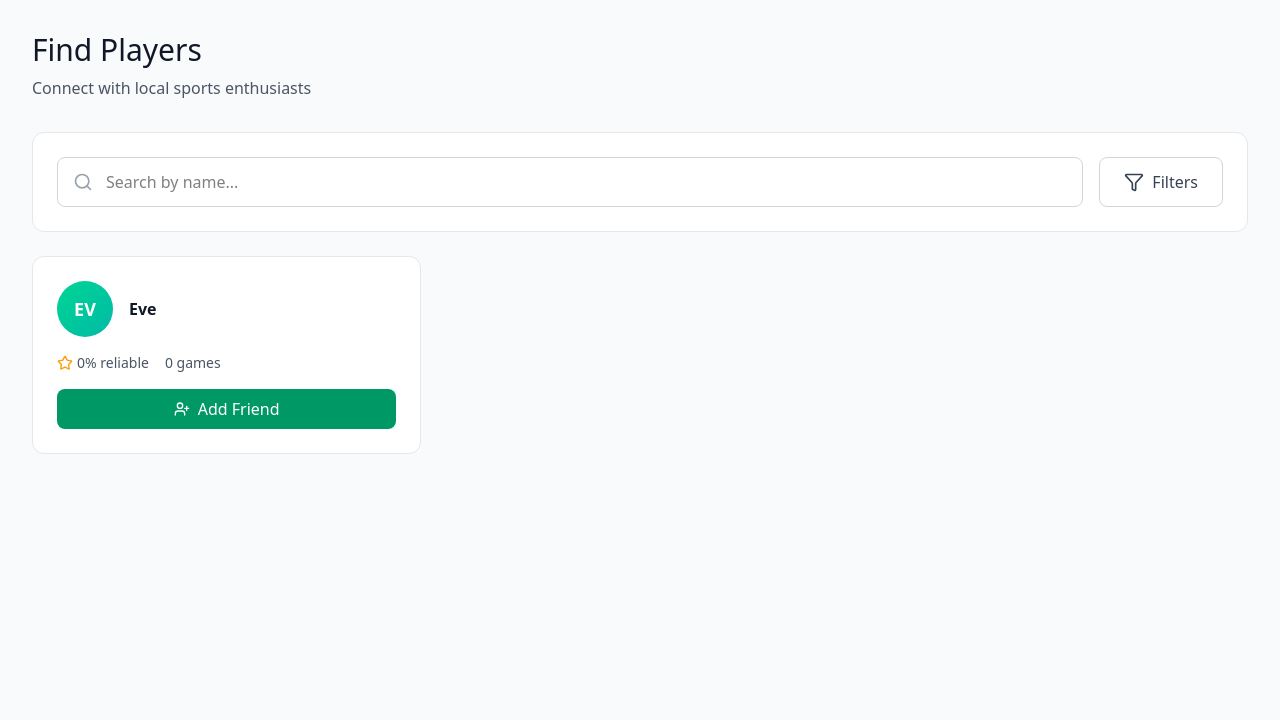
Test: PlayerSearch › duplicate request error: shows 'already exists' message and refreshes friends list
Expected: the heading "Eve" is shown, x1=129 y1=297 x2=156 y2=321
Click the button "Add Friend" at (227, 409), box x1=57 y1=389 x2=396 y2=429
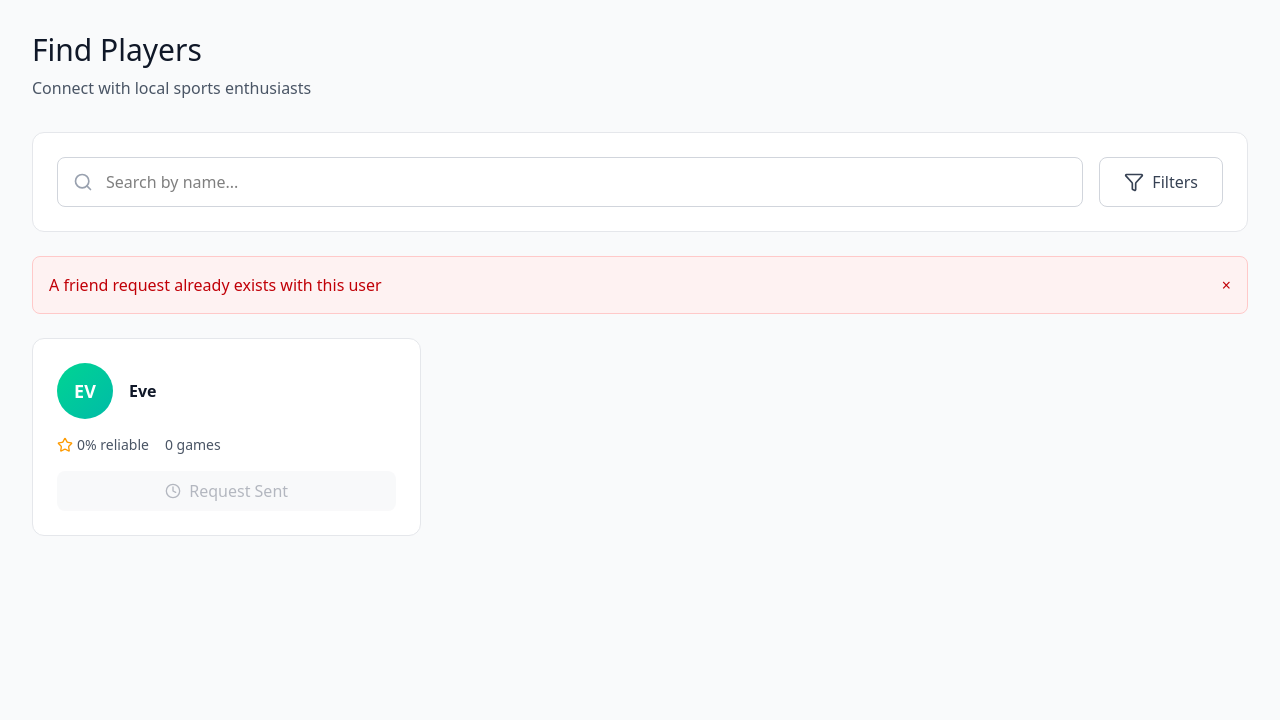
Now the text "A friend request already exists with this user" is shown, box x1=49 y1=273 x2=382 y2=297
